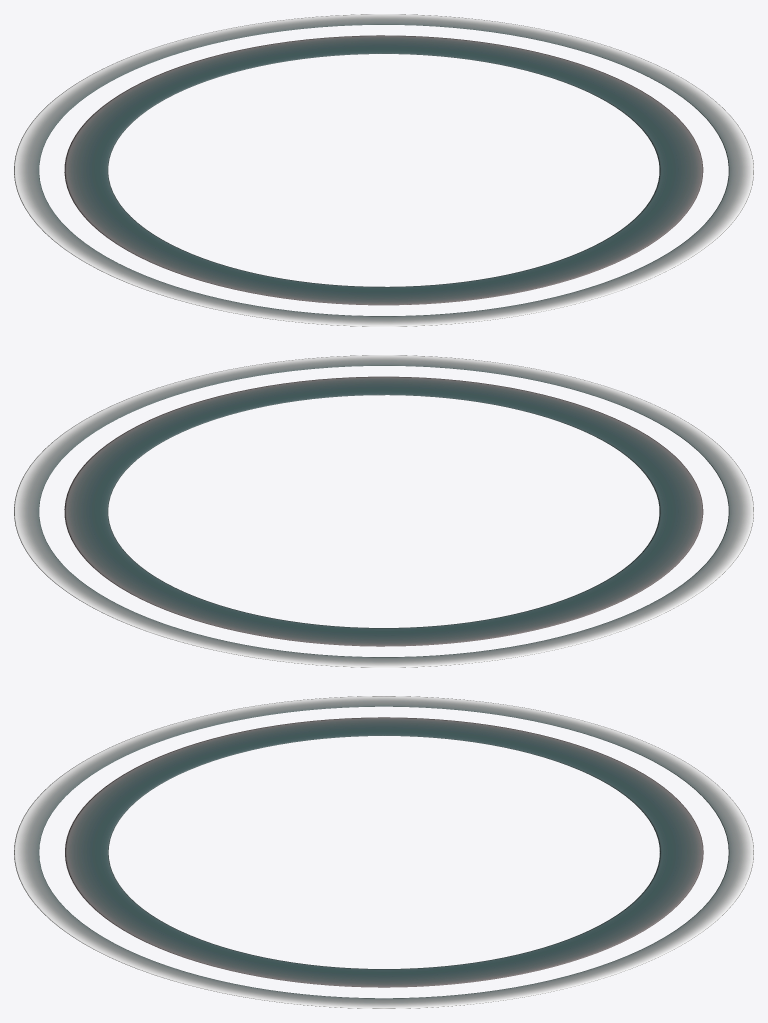
The model's file is UranusRings.obj.
3 views of the same model, one above another, from view 1: azimuth 30°, elevation 25°; view 2: azimuth 150°, elevation 25°; view 3: azimuth 270°, elevation 25° (orthographic).
Visible parts, largest first — view 1: UranusRingsMesh; view 2: UranusRingsMesh; view 3: UranusRingsMesh.
Part boxes in pixels (bbox=[...]): UranusRingsMesh: bbox=[14, 14, 753, 326]; UranusRingsMesh: bbox=[14, 355, 753, 667]; UranusRingsMesh: bbox=[14, 696, 753, 1008].
Bounding box in the file's own units: 44.17 × 0.0833 × 44.17.
